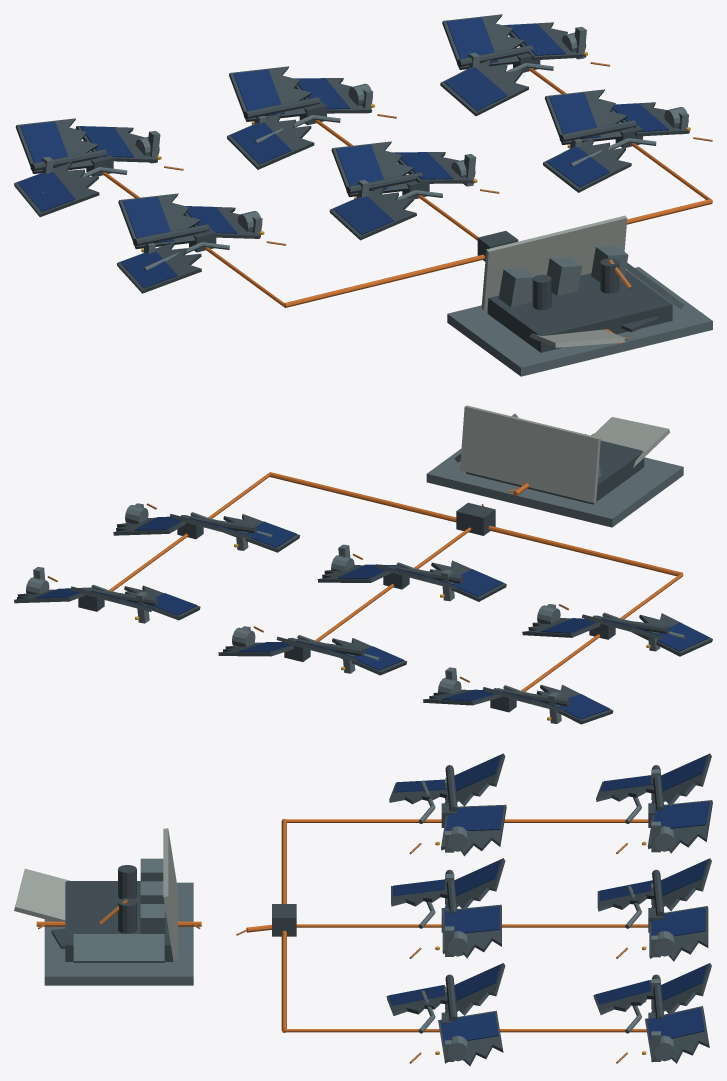
Rendered from solar_power_complex_d3.glb.
3 views of the same model, one above another, from view 1: azimuth 30°, elevation 25°; view 2: azimuth 150°, elevation 25°; view 3: azimuth 270°, elevation 25° (orthographic). The views are drawn at different scales.
Visible parts, largest first — view 1: SOLAR_GAME_MESH; view 2: SOLAR_GAME_MESH; view 3: SOLAR_GAME_MESH.
Part boxes in pixels (x1,y1,x2,y2): SOLAR_GAME_MESH: [14, 14, 712, 376]; SOLAR_GAME_MESH: [14, 405, 712, 724]; SOLAR_GAME_MESH: [14, 753, 712, 1066].
Bounding box in the file's own units: 16.33 × 2.04 × 16.92.
